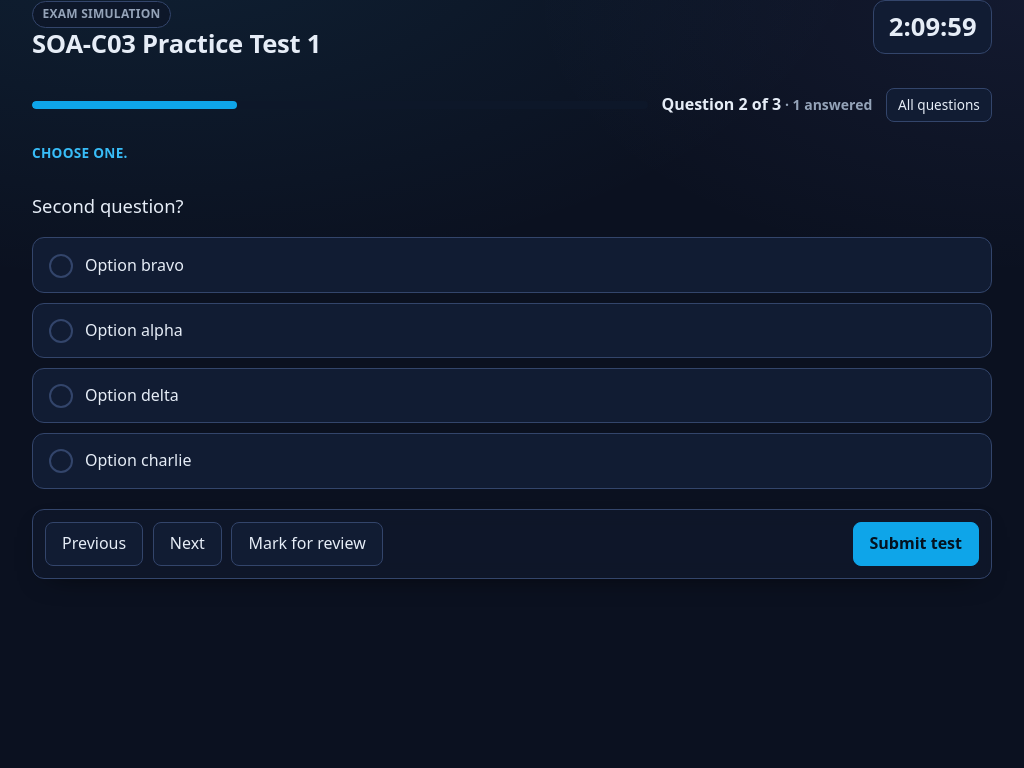
Test: PracticeTestPage › restores an in-flight attempt from storage after a refresh
The width and height of the screenshot is (1024, 768).
Expected: the heading "Second question?" is shown, left=32, top=193, right=184, bottom=218
Click the button "Previous" at (94, 544), box left=45, top=522, right=143, bottom=566
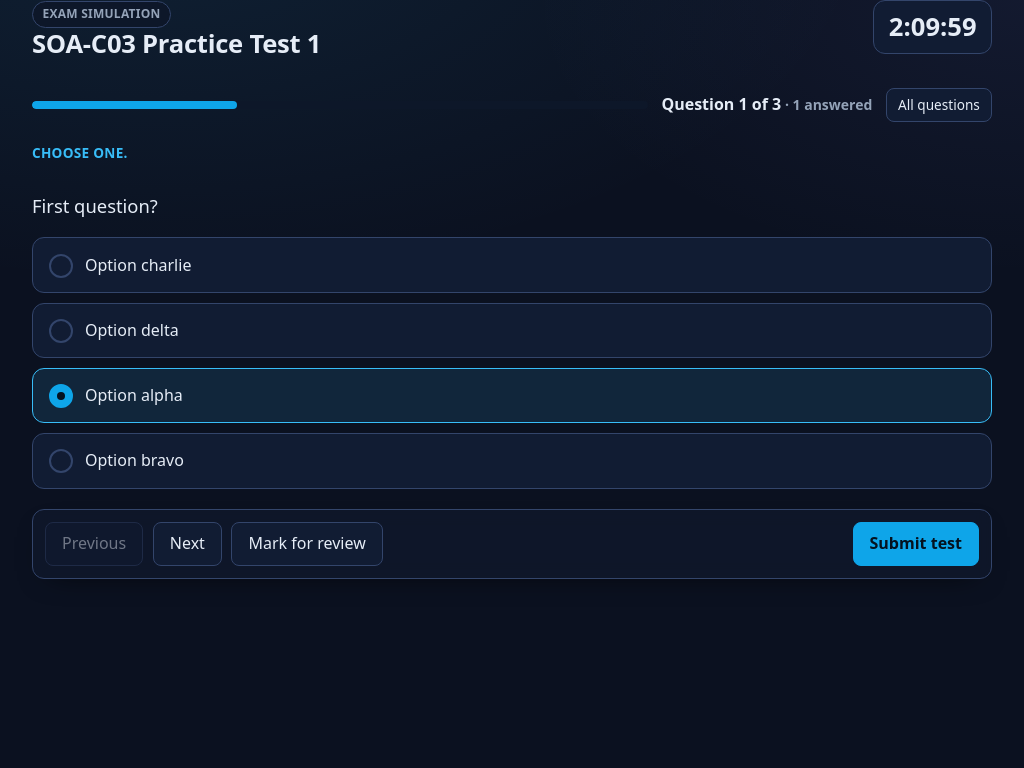
Expected: the heading "First question?" is shown, left=32, top=193, right=158, bottom=218
Expected: the radio button labelled "Option alpha" is checked, left=32, top=368, right=992, bottom=423
